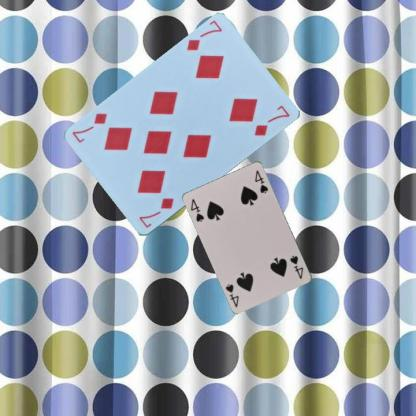4s: (188, 196, 206, 223), (288, 253, 304, 280)
7d: (136, 195, 175, 230), (184, 18, 224, 52)
